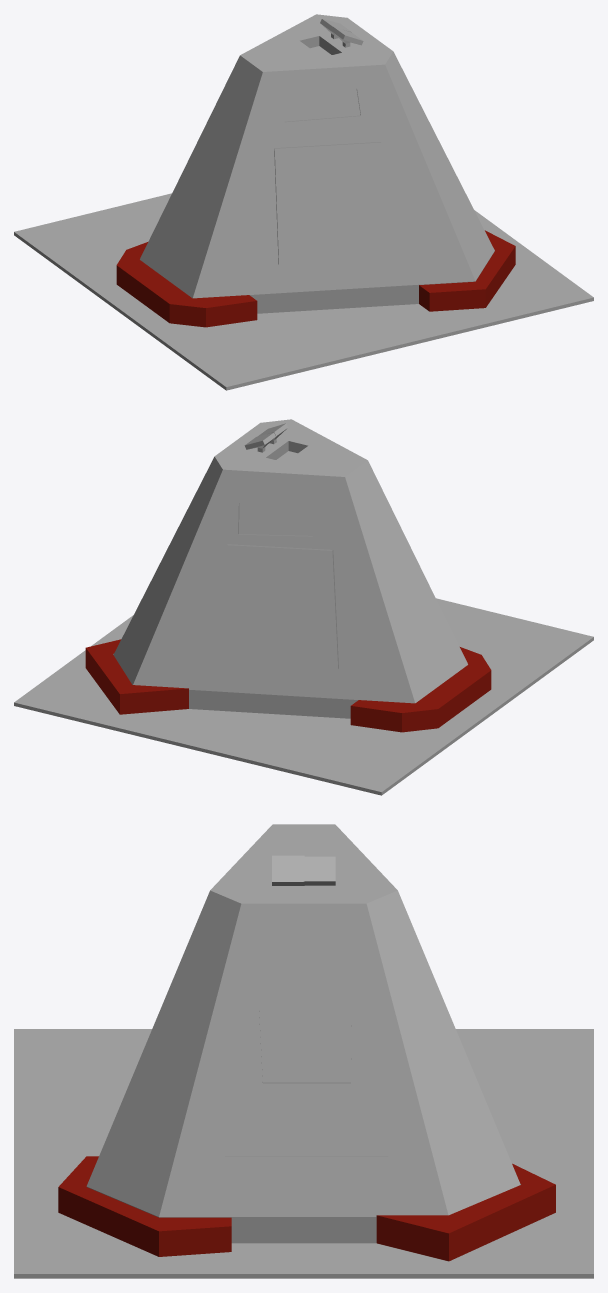
The model's file is home.fbx.
3 renders of one model, top to bottom at view 1: azimuth 30°, elevation 25°; view 2: azimuth 150°, elevation 25°; view 3: azimuth 270°, elevation 25°, orthographic. The views are drawn at different scales.
Visible parts, largest first — view 1: Cube; view 2: Cube; view 3: Cube.
Boxes of the visible parts, bbox=[...] form: Cube: bbox=[14, 14, 593, 390]; Cube: bbox=[14, 419, 593, 795]; Cube: bbox=[14, 824, 593, 1278].
Size of the model in its own units: 200 by 122 by 200.
